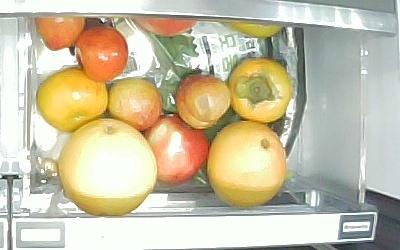apple: (141, 113, 210, 184), (130, 16, 198, 38)
grapefruit: (58, 117, 158, 217), (208, 120, 286, 209)
persimmon: (36, 68, 109, 132), (228, 57, 293, 123)
prune: (107, 77, 164, 135), (175, 72, 232, 129), (73, 26, 129, 82), (35, 15, 87, 52)
